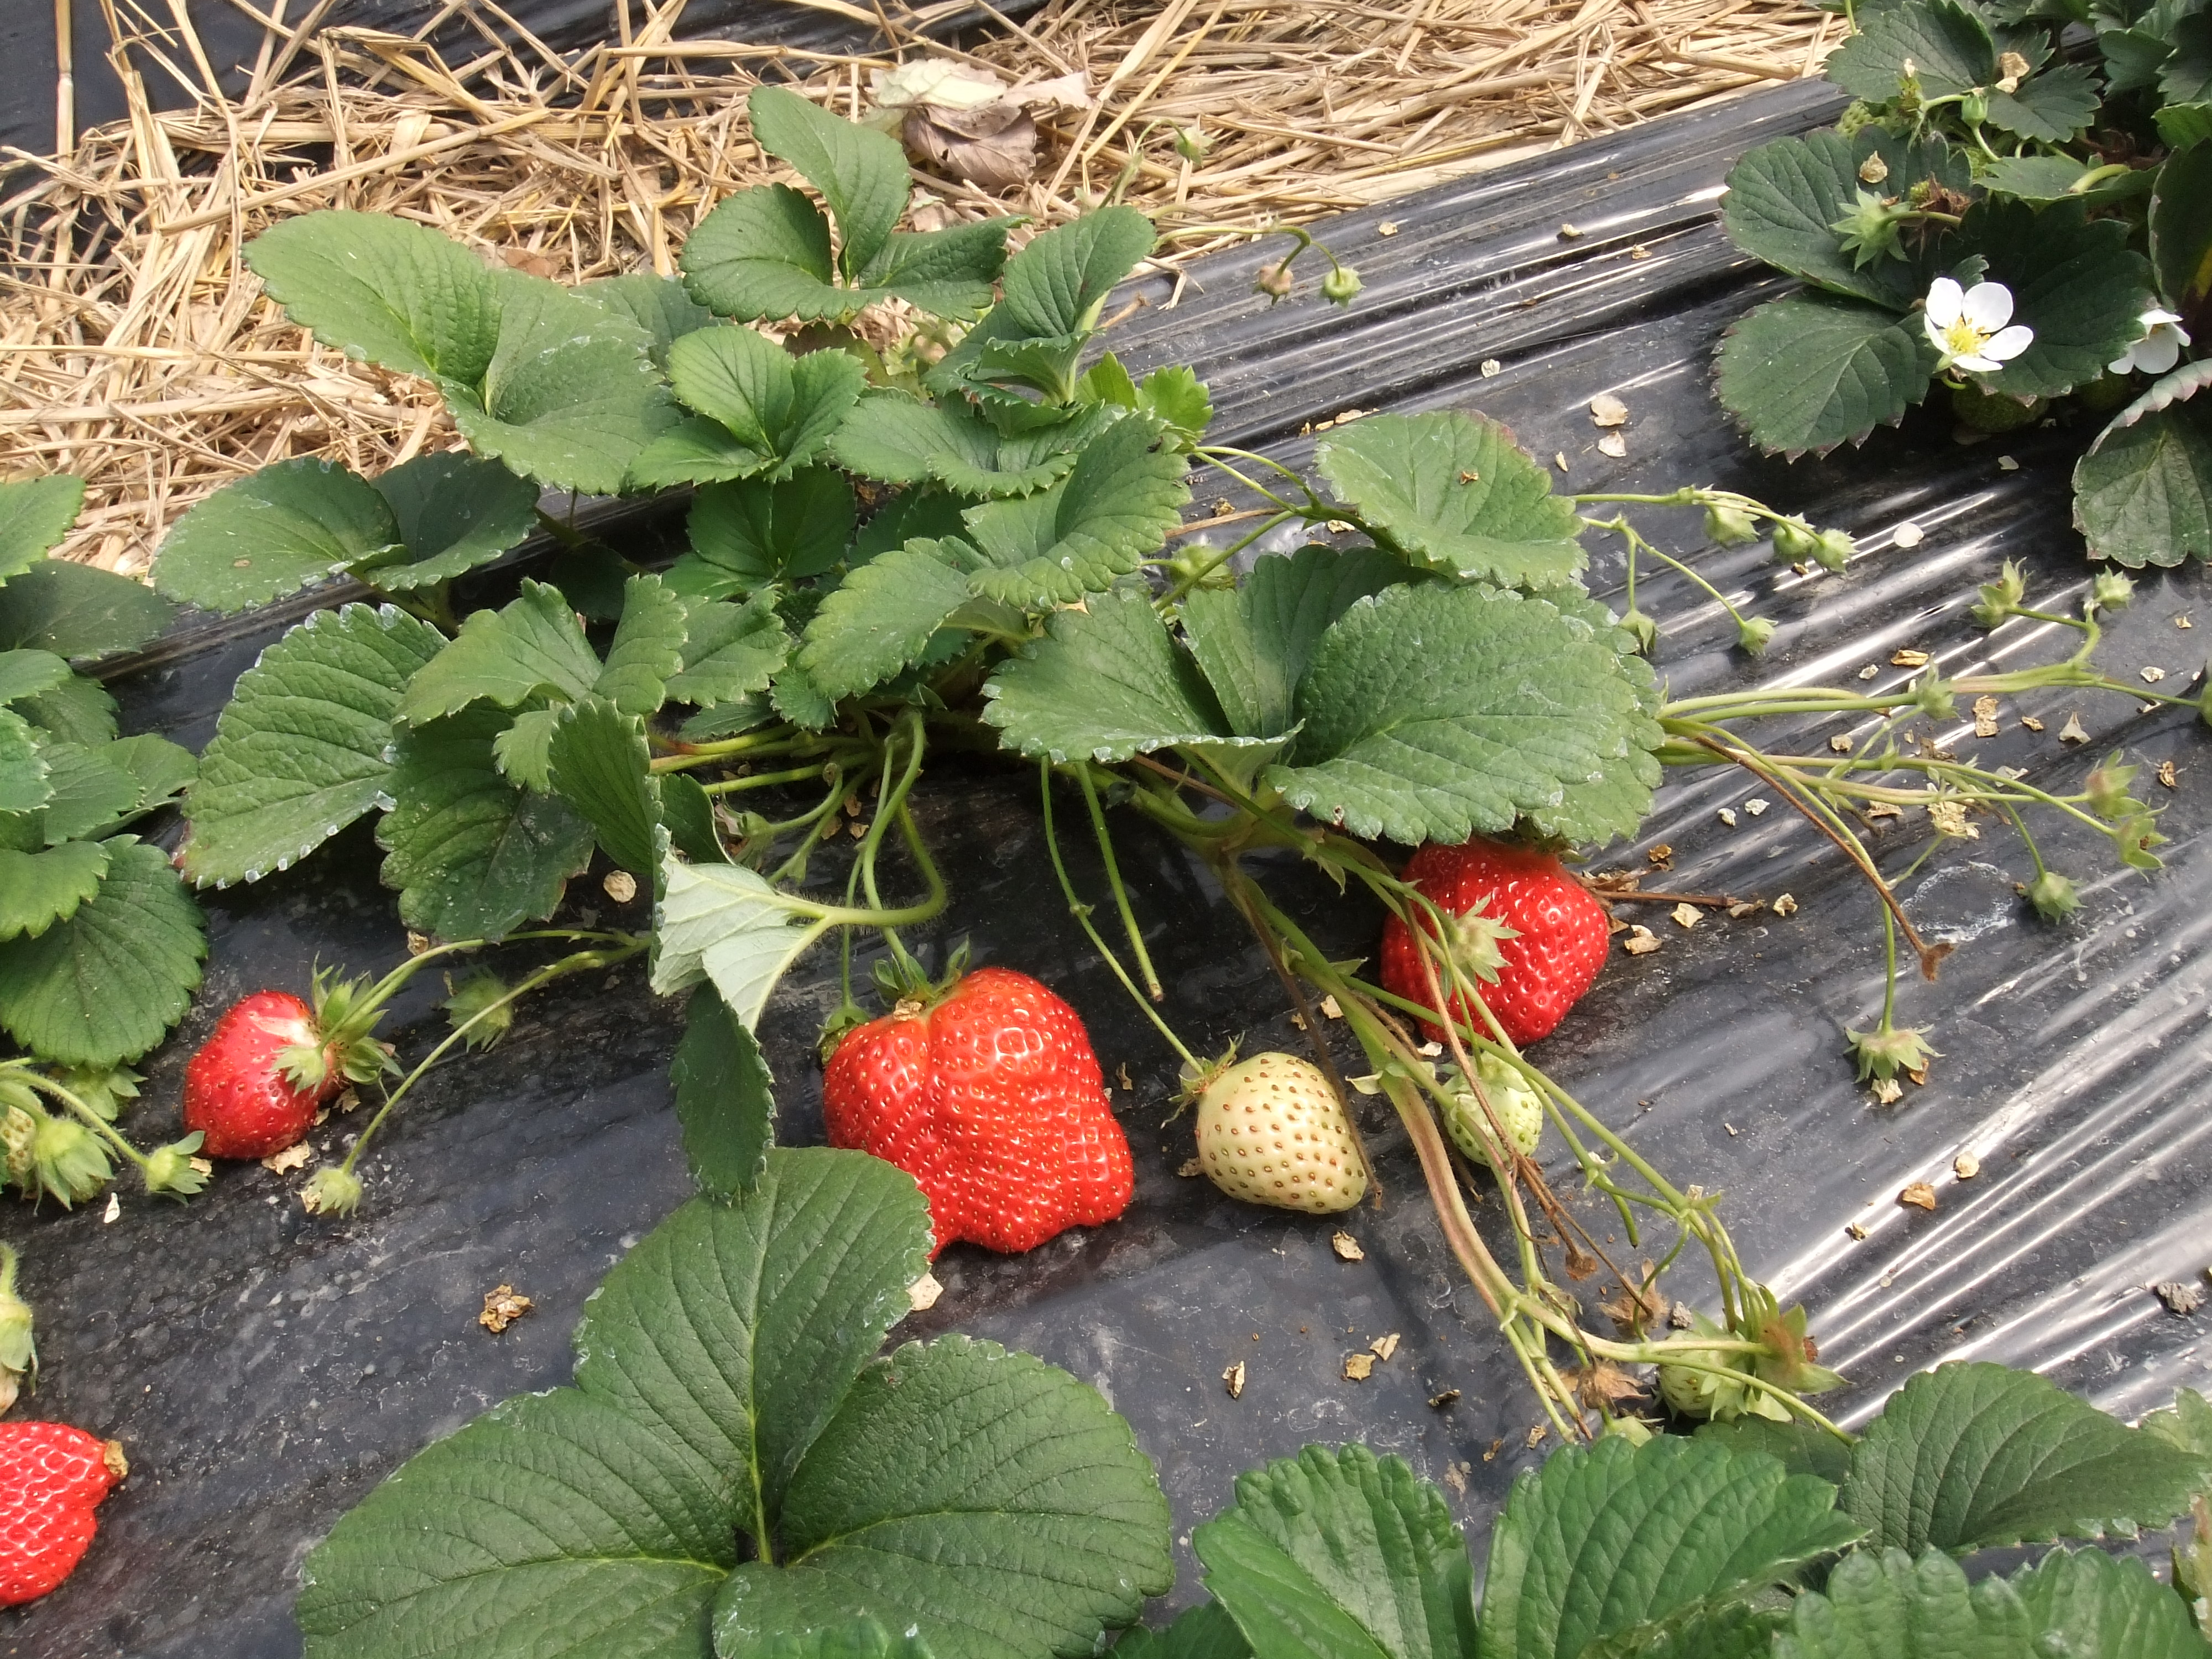StrawberryIrremovable: (1195, 1046, 1378, 1243), (1432, 1051, 1545, 1173), (1646, 1319, 1740, 1424), (33, 1117, 113, 1201)
StrawberryOther: (174, 976, 352, 1173), (3, 1403, 131, 1607)
StrawberryRemovable: (820, 965, 1144, 1263), (1379, 830, 1618, 1040), (3, 1399, 141, 1621), (183, 988, 348, 1169)
StrawberryWedge: (815, 960, 1144, 1263), (1374, 833, 1620, 1040)
